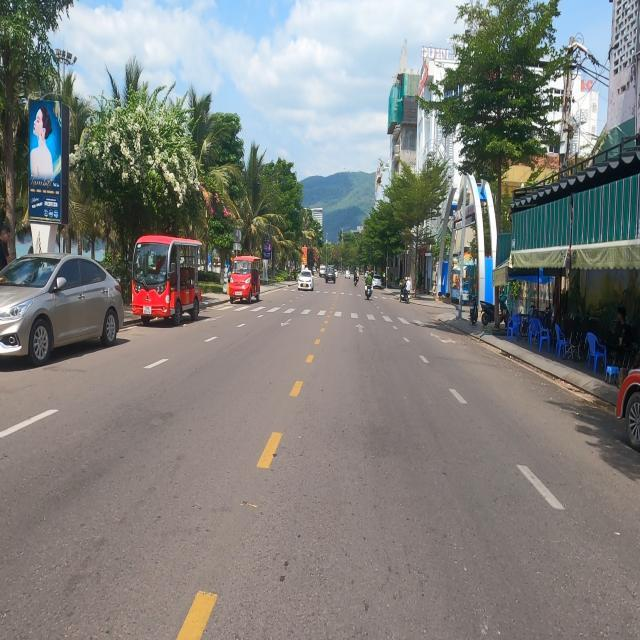walk-crossing: (208, 304, 434, 329)
